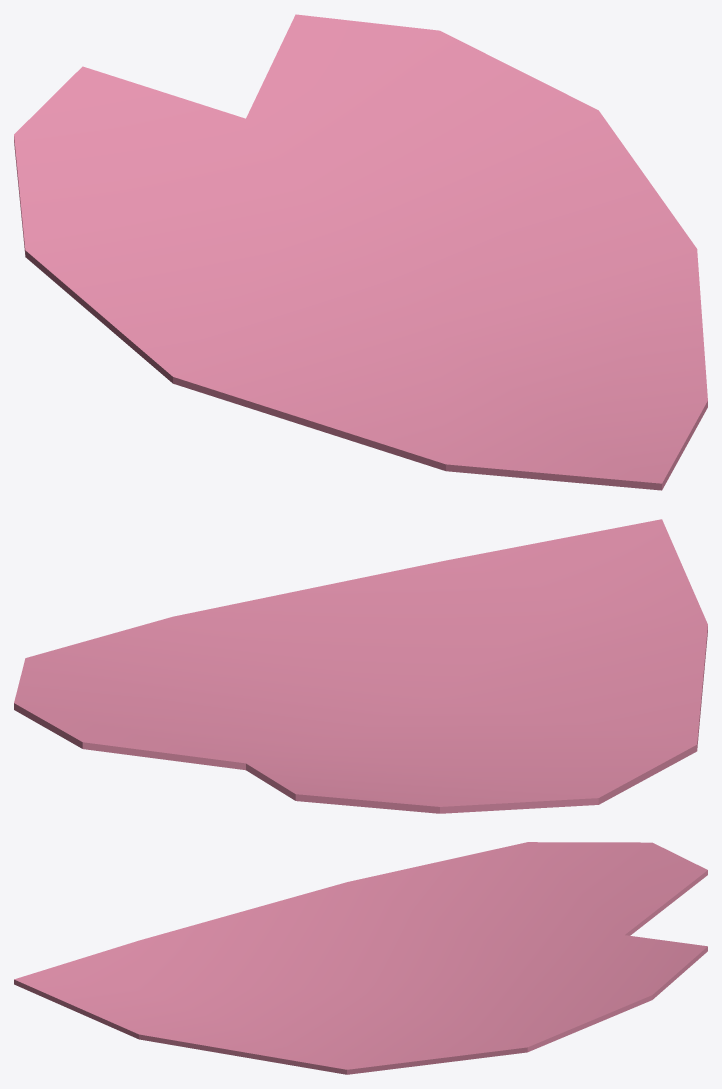
File: Sakura.fbx
3 views of the same model, one above another, from view 1: azimuth 30°, elevation 25°; view 2: azimuth 150°, elevation 25°; view 3: azimuth 270°, elevation 25° (orthographic). The views are drawn at different scales.
Visible parts, largest first — view 1: SakuraPetal_5cm; view 2: SakuraPetal_5cm; view 3: SakuraPetal_5cm.
Part boxes in pixels (x1=…): SakuraPetal_5cm: x1=14, y1=14, x2=707, y2=490; SakuraPetal_5cm: x1=14, y1=519, x2=707, y2=813; SakuraPetal_5cm: x1=14, y1=842, x2=707, y2=1074.
Bounding box in the file's own units: 3.5 × 0.6959 × 5.
